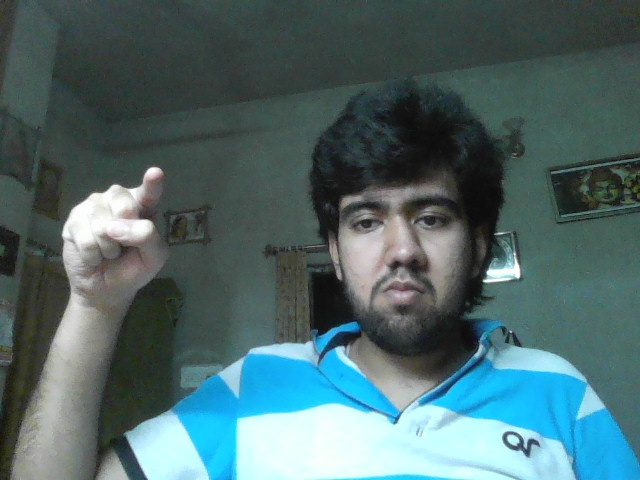You: (64, 166, 169, 290)
